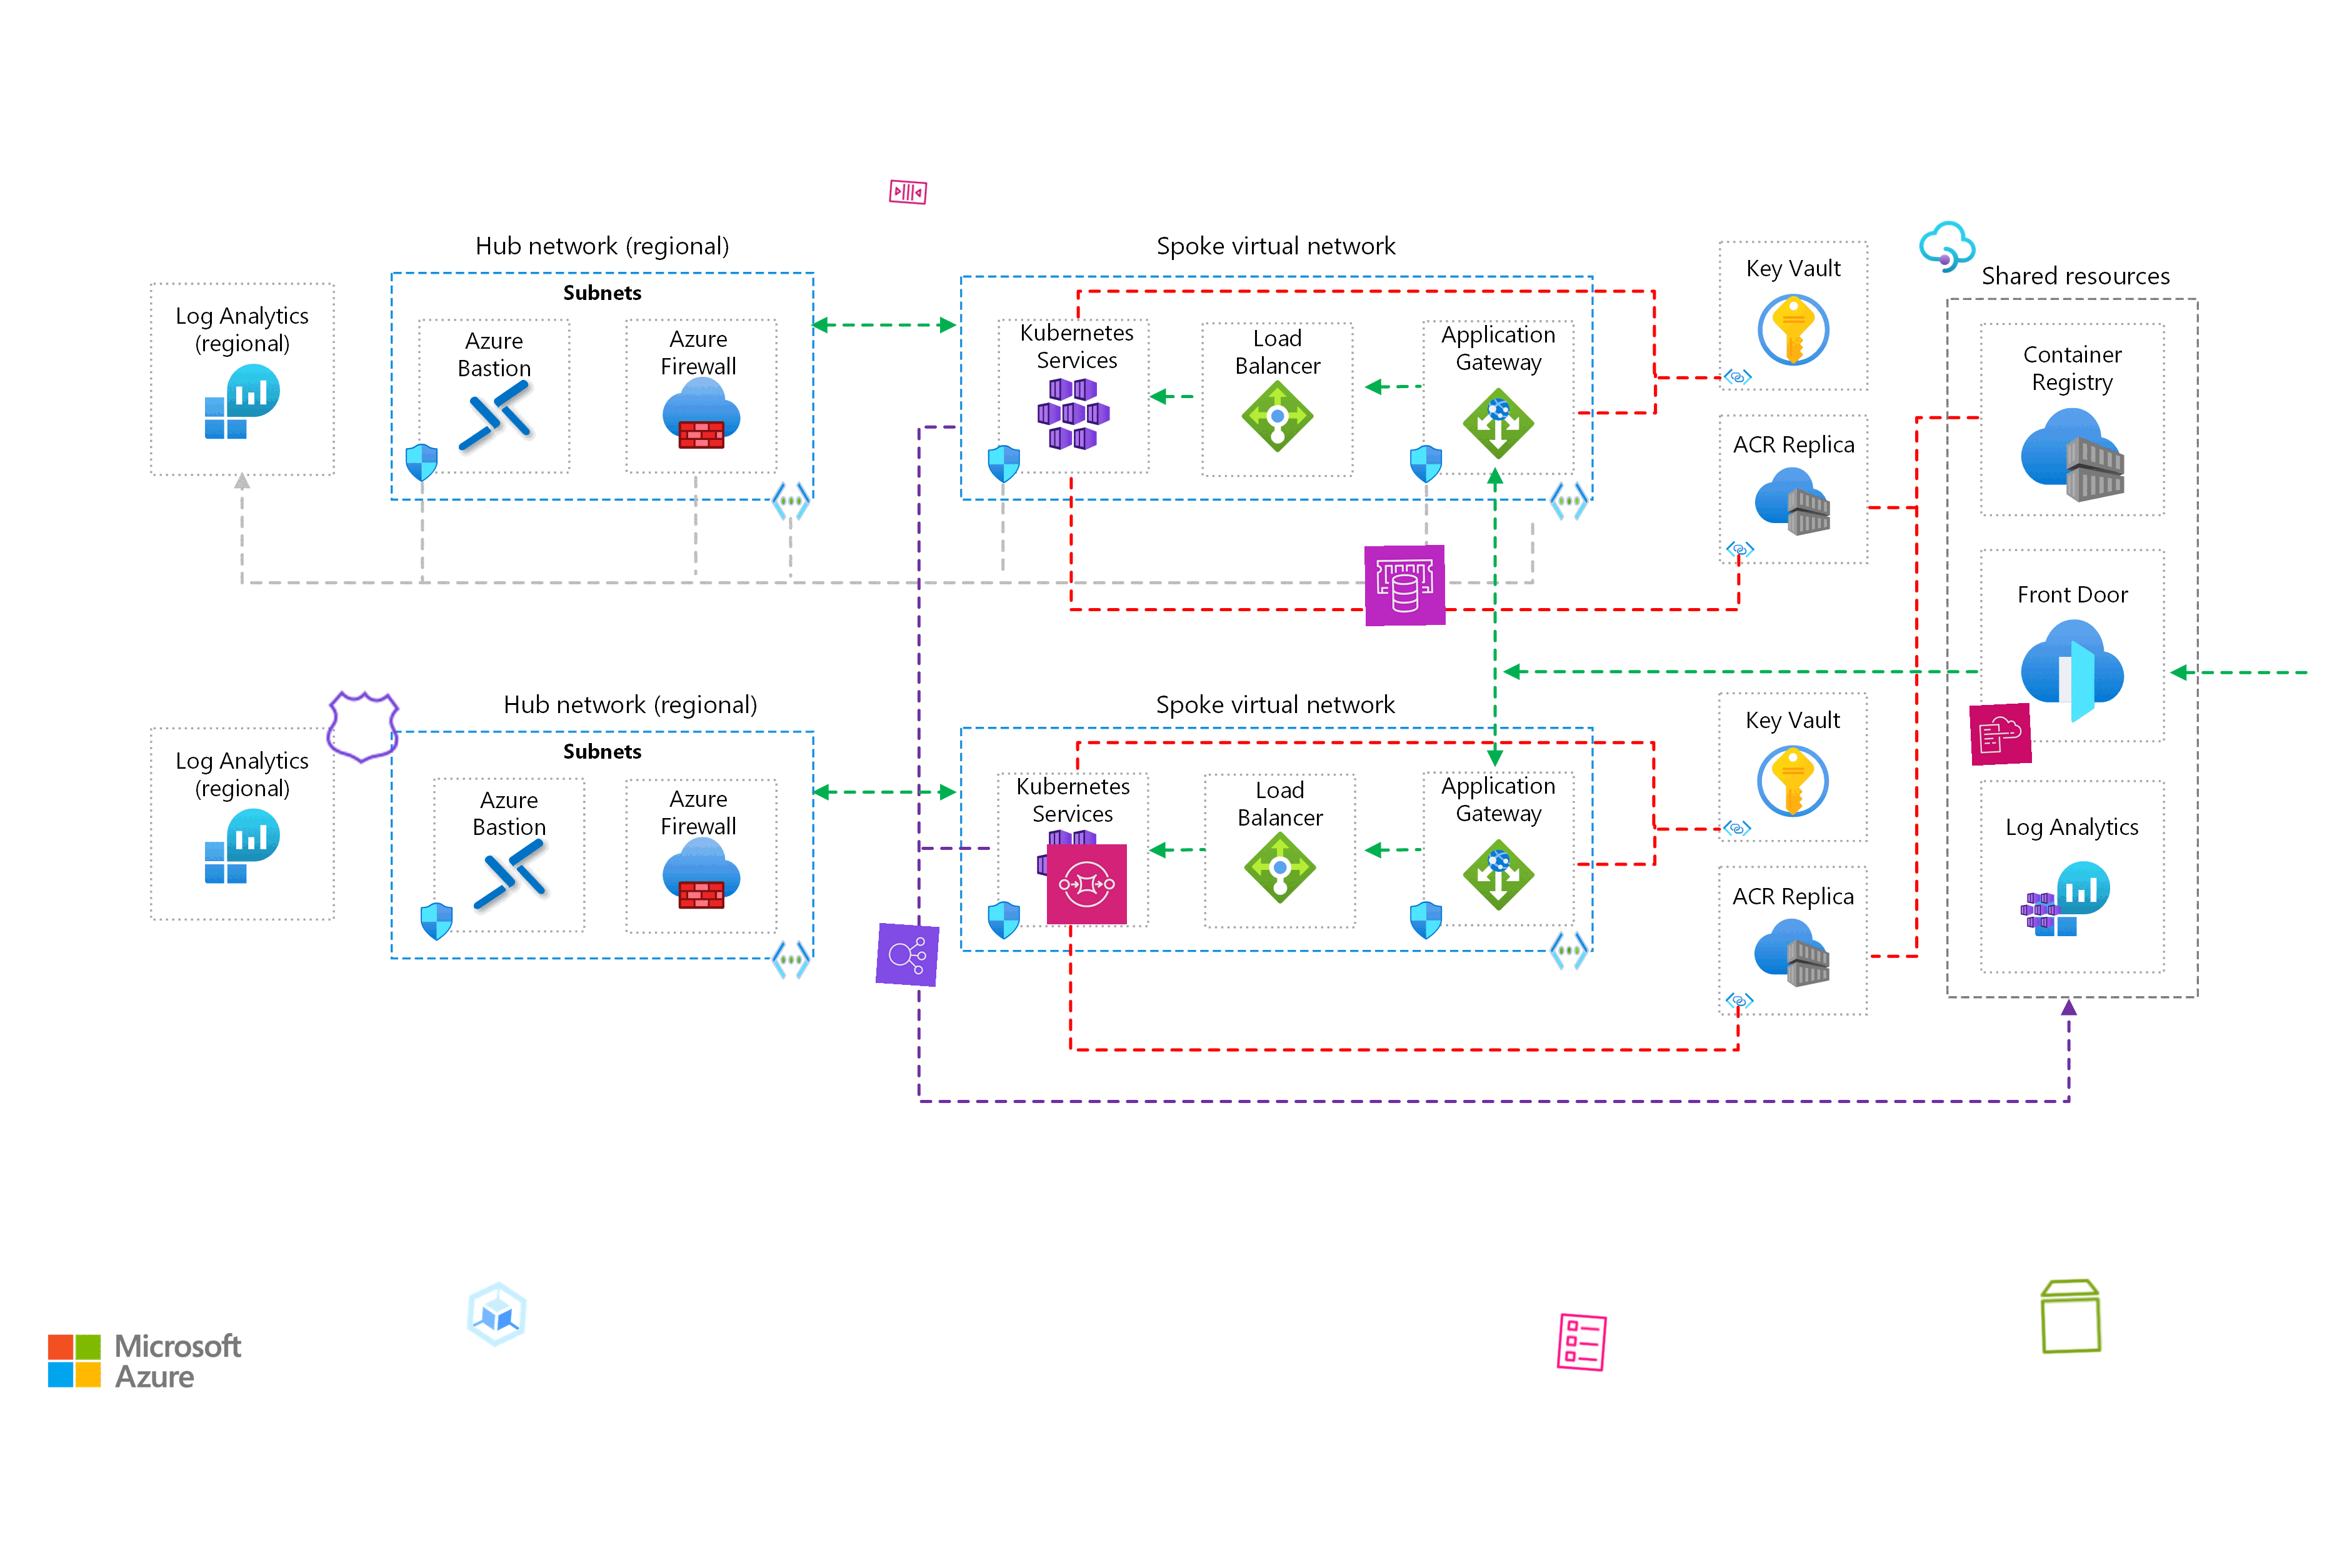aws_amazon_elasticache: (1365, 544, 1445, 626)
aws_amazon_simple_queue_service: (1046, 843, 1127, 926)
aws_cloudformation: (1969, 702, 2032, 766)
aws_cloudformation_template: (1549, 1311, 1613, 1375)
aws_elastic_block_store_volume: (2030, 1274, 2114, 1358)
aws_elastic_load_balancing: (875, 922, 940, 987)
aws_route_53_hosted_zone: (322, 684, 406, 770)
aws_simple_queue_service_queue: (886, 170, 929, 213)
azure_api_management_services: (1916, 215, 1979, 278)
azure_kubernetes_services: (2019, 889, 2061, 931)
gcp_google_kubernetes_engine: (453, 1270, 541, 1358)
